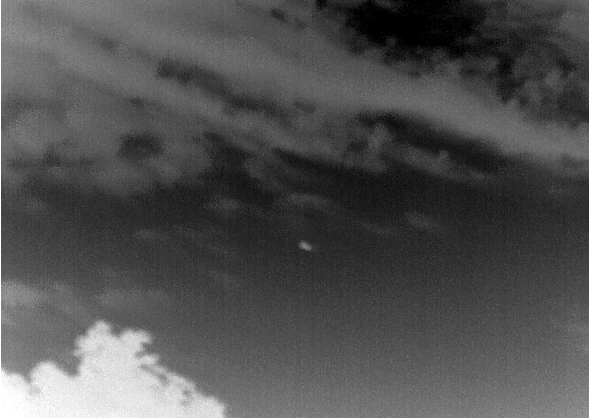dim target: (297, 240, 312, 253)
